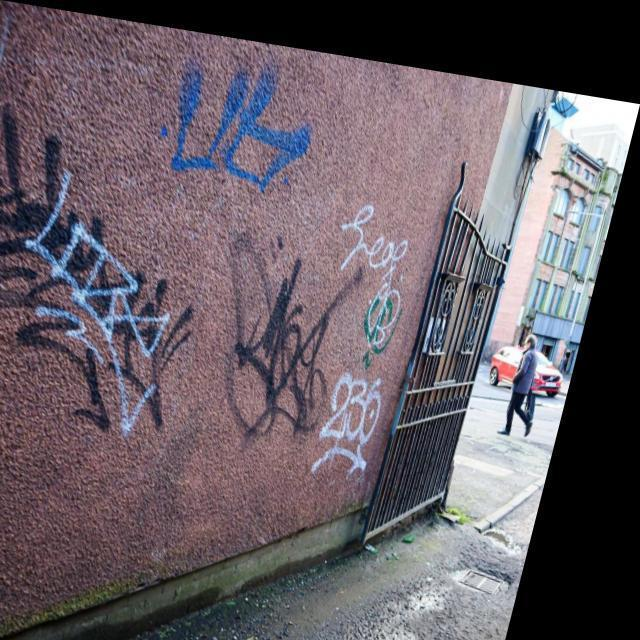-: (0, 74, 258, 438), (202, 208, 374, 424), (144, 25, 347, 206), (324, 174, 444, 346), (324, 341, 414, 468)
